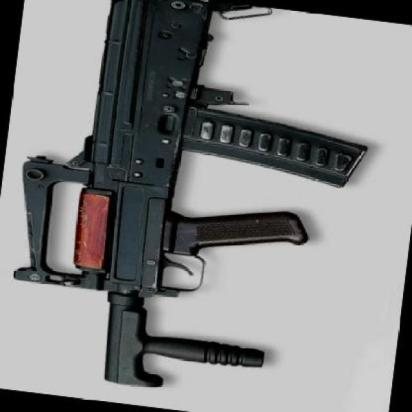Gun: (0, 0, 375, 405)
